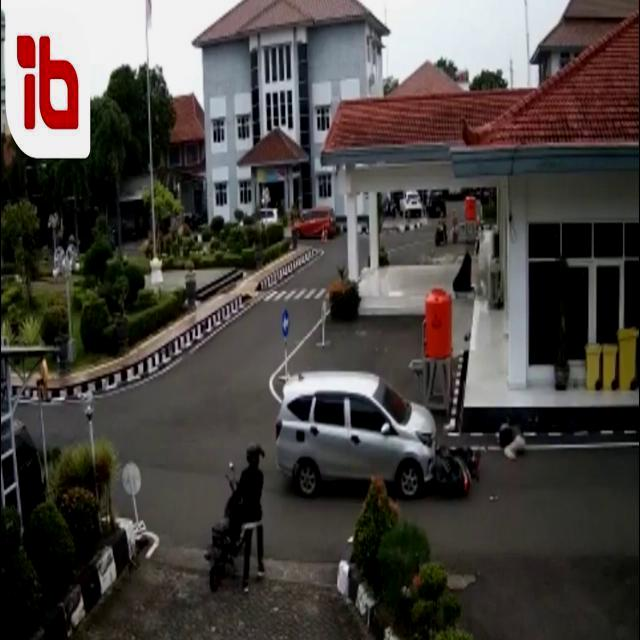accident: (274, 369, 483, 499)
non-accident: (240, 204, 340, 244), (398, 190, 448, 220)
